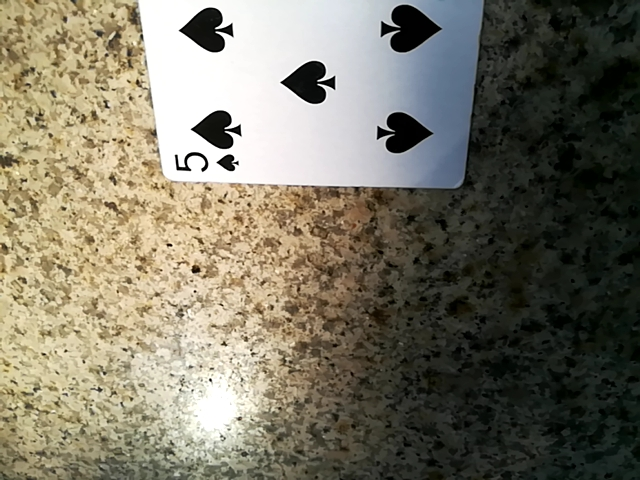ht 5: (126, 0, 480, 187)
